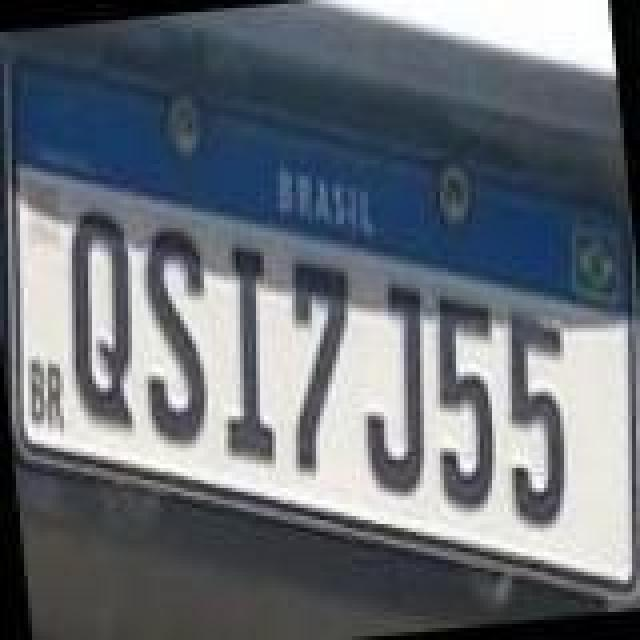5: (492, 304, 580, 536), (420, 288, 508, 512)
7: (274, 256, 366, 480)
I: (210, 236, 286, 468)
J: (348, 272, 444, 496)
Q: (58, 204, 150, 436)
S: (130, 222, 222, 450)
